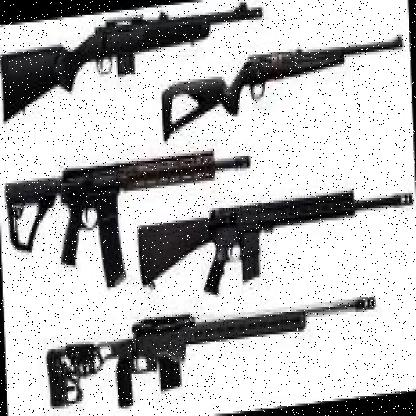rifle: (44, 287, 382, 416), (134, 178, 416, 304), (0, 0, 263, 91)
